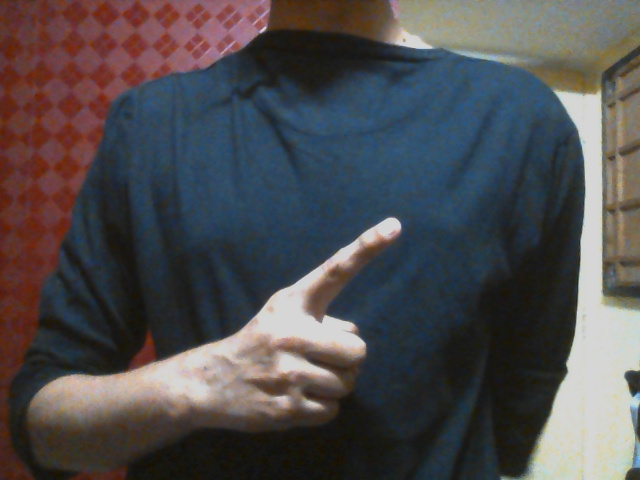I: (210, 214, 403, 436)
